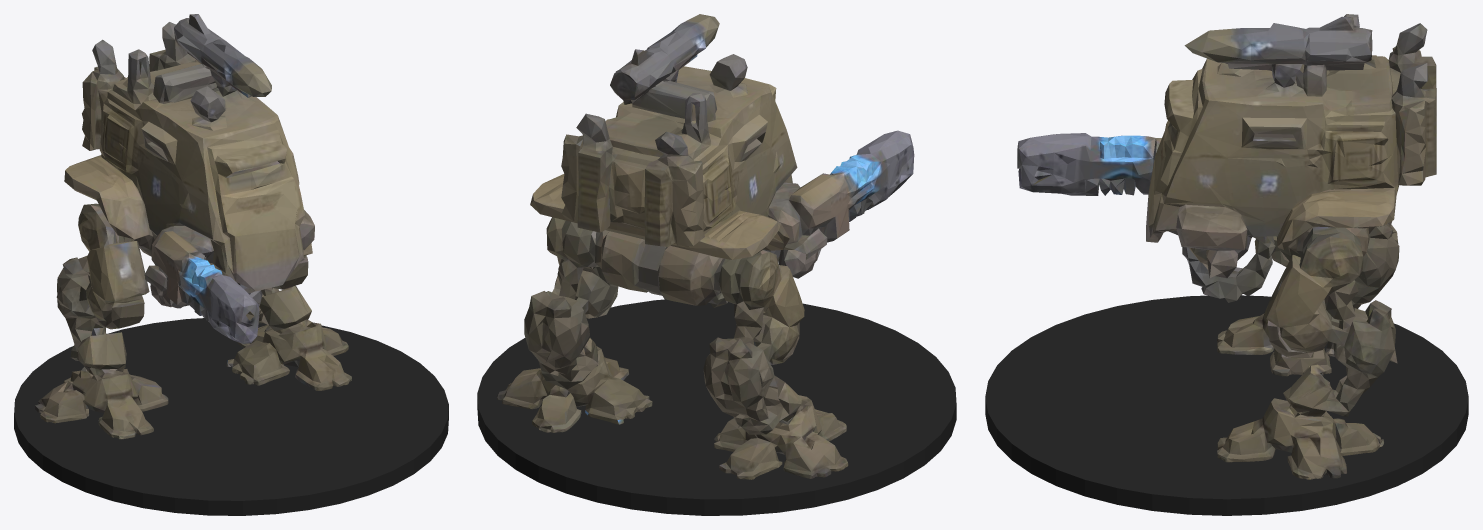
File: armoured-sentinel.glb
3 renders of one model, left to right at view 1: azimuth 30°, elevation 25°; view 2: azimuth 150°, elevation 25°; view 3: azimuth 270°, elevation 25°, orthographic. The views are drawn at different scales.
Parts seen in each view (by area): view 1: figure, base; view 2: figure, base; view 3: figure, base.
Boxes of the visible parts, bbox=[...] form: figure: bbox=[35, 14, 351, 439]; base: bbox=[14, 318, 448, 515]; figure: bbox=[496, 14, 914, 479]; base: bbox=[477, 299, 956, 515]; figure: bbox=[1017, 14, 1436, 479]; base: bbox=[985, 295, 1468, 515].
Size of the model in its own units: 3.15 by 2.92 by 3.15.
Materials: 2 (1 with a texture image).
